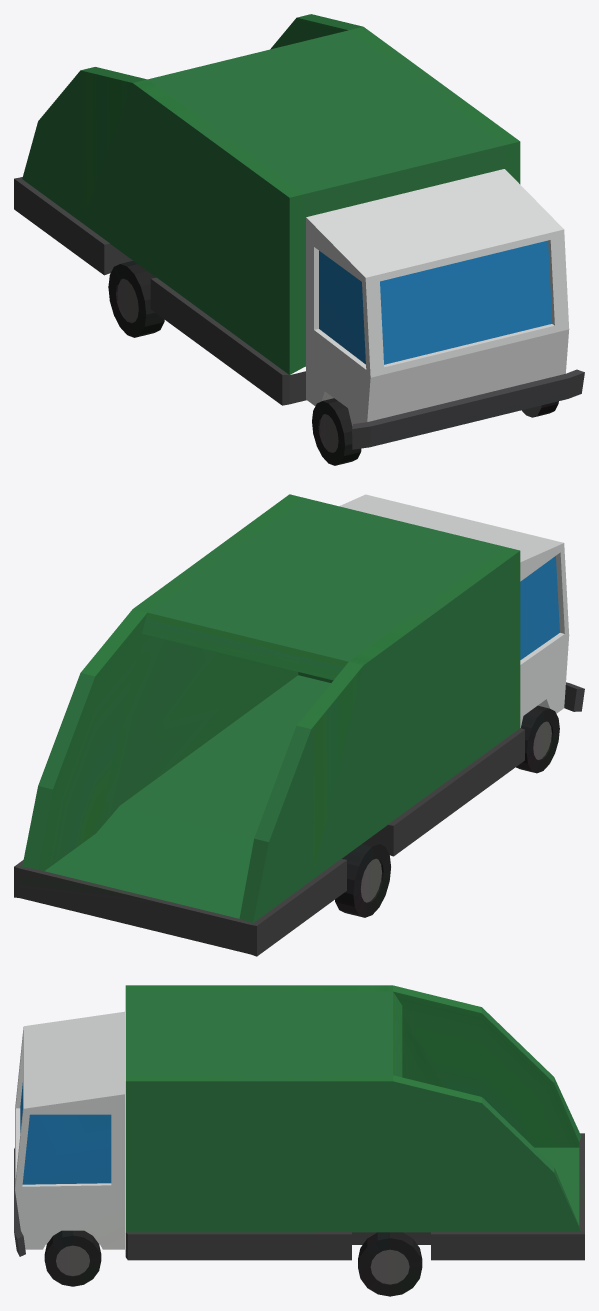
Rendered from GarbageTruck.fbx.
3 renders of one model, top to bottom at view 1: azimuth 30°, elevation 25°; view 2: azimuth 150°, elevation 25°; view 3: azimuth 270°, elevation 25°, orthographic. The views are drawn at different scales.
Visible parts, largest first — view 1: GarbageCarriage, GarbageBody, Truck1Carriege, GarbageTires; view 2: GarbageCarriage, Truck1Carriege, GarbageBody, GarbageTires; view 3: GarbageCarriage, GarbageBody, Truck1Carriege, GarbageTires.
Boxes of the visible parts, <box> form: GarbageCarriage: <box>22,14,520,374</box>; GarbageBody: <box>306,169,584,449</box>; Truck1Carriege: <box>14,177,306,405</box>; GarbageTires: <box>108,261,558,465</box>; GarbageCarriage: <box>22,494,520,923</box>; Truck1Carriege: <box>14,728,524,956</box>; GarbageBody: <box>339,494,584,727</box>; GarbageTires: <box>335,705,559,917</box>; GarbageCarriage: <box>125,985,581,1232</box>; GarbageBody: <box>14,1011,124,1256</box>; Truck1Carriege: <box>125,1133,584,1260</box>; GarbageTires: <box>44,1230,422,1296</box>.
Bounding box in the file's own units: 217 × 211 × 515.
